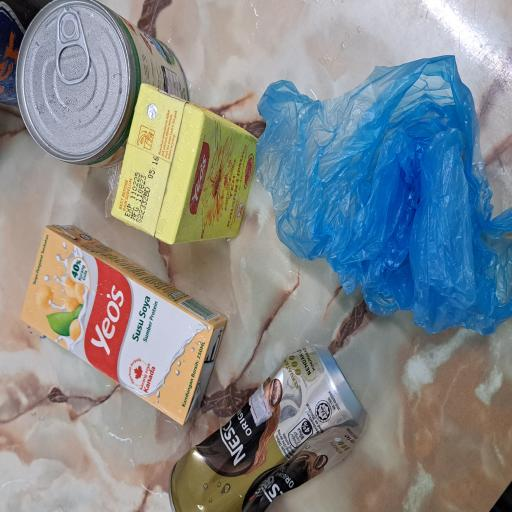can: (149, 0, 346, 170), (325, 338, 495, 512)
drink carton: (288, 83, 491, 284), (264, 259, 400, 433)
plastic bag: (0, 170, 258, 454)
pop tab: (418, 417, 458, 500)
